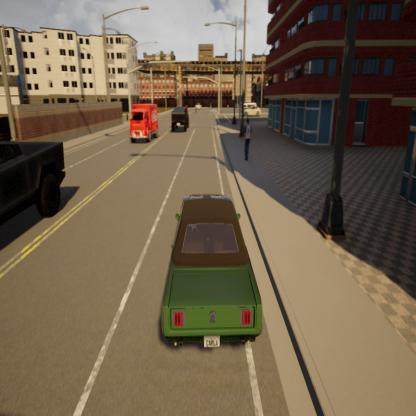Cars: (153, 183, 269, 366), (0, 124, 69, 240), (124, 98, 160, 147), (168, 103, 194, 134), (240, 100, 258, 118), (242, 107, 261, 119)
Pedestrian: (239, 112, 254, 166)
